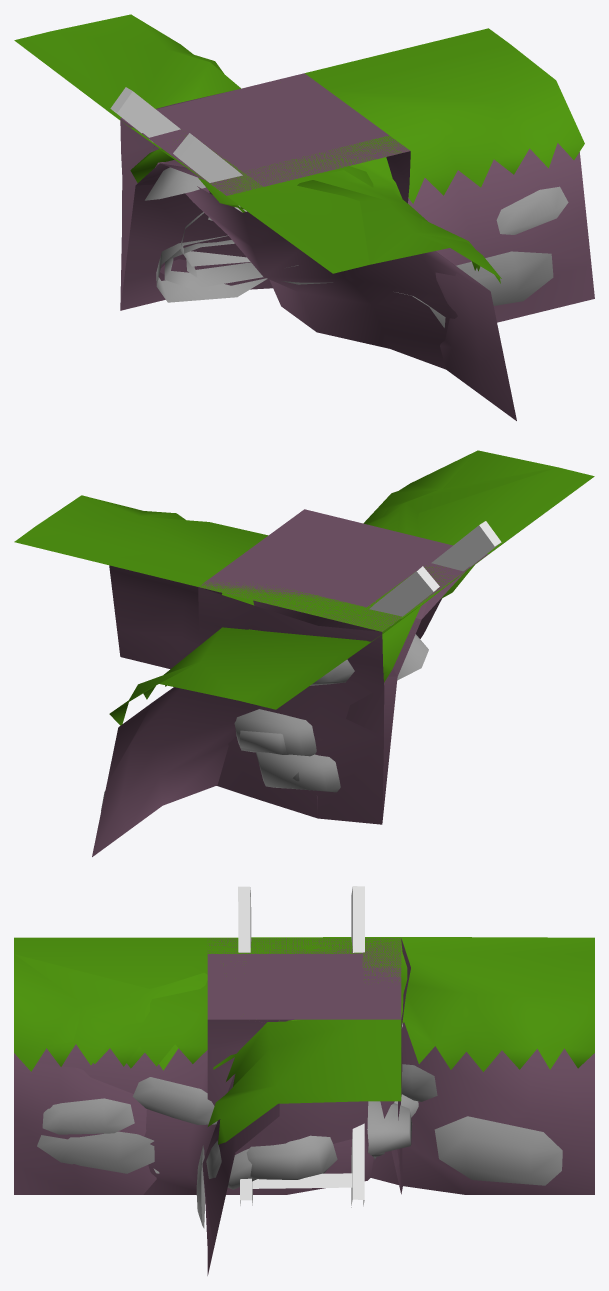
The model's file is forest_02_pieces.glb.
The picture shows the model from 3 angles, top to bottom: view 1: azimuth 30°, elevation 25°; view 2: azimuth 150°, elevation 25°; view 3: azimuth 270°, elevation 25°; orthographic projection. The views are drawn at different scales.
Visible parts, largest first — view 1: Plane.082, forest_ledge-straight-x3.001, creekbed_top, forest_ledge_01-corner_stub-top, forest_ledge_01-x1-top, forest_ledge_01-corner_stub-wall, creekbed_single, forest_ledge_01-x1-wall; view 2: Plane.082, forest_ledge-straight-x3.001, forest_ledge_01-x1-wall, creekbed_top, forest_ledge_01-x1-top, creekbed_single, forest_ledge_01-corner_stub-wall, forest_ledge_01-corner_stub-top; view 3: forest_ledge-straight-x3.001, Plane.082, creekbed_top, forest_ledge_01-corner_stub-wall, forest_ledge_01-corner_stub-top, forest_ledge_01-x1-top, creekbed_single, forest_ledge_01-x1-wall.
Boxes of the visible parts, box(x1,y1,x2,y2) form: Plane.082: box(177, 28, 594, 420); forest_ledge-straight-x3.001: box(14, 14, 501, 369); creekbed_top: box(120, 73, 409, 195); forest_ledge_01-corner_stub-top: box(120, 149, 373, 310); forest_ledge_01-x1-top: box(130, 135, 406, 302); forest_ledge_01-corner_stub-wall: box(120, 118, 410, 308); creekbed_single: box(136, 162, 303, 266); forest_ledge_01-x1-wall: box(122, 91, 230, 225); Plane.082: box(14, 450, 594, 669); forest_ledge-straight-x3.001: box(92, 451, 556, 856); forest_ledge_01-x1-wall: box(198, 587, 384, 824); creekbed_top: box(199, 509, 488, 631); forest_ledge_01-x1-top: box(222, 593, 421, 822); creekbed_single: box(234, 569, 467, 814); forest_ledge_01-corner_stub-wall: box(253, 600, 384, 736); forest_ledge_01-corner_stub-top: box(292, 572, 463, 781); forest_ledge-straight-x3.001: box(14, 886, 594, 1207); Plane.082: box(14, 937, 401, 1275); creekbed_top: box(207, 938, 401, 1019); forest_ledge_01-corner_stub-wall: box(207, 1019, 384, 1189); forest_ledge_01-corner_stub-top: box(209, 940, 373, 1194); forest_ledge_01-x1-top: box(223, 963, 412, 1193); creekbed_single: box(207, 938, 418, 1117); forest_ledge_01-x1-wall: box(398, 938, 410, 1193).
Size of the model in its own units: 2.17 by 1.31 by 3.
